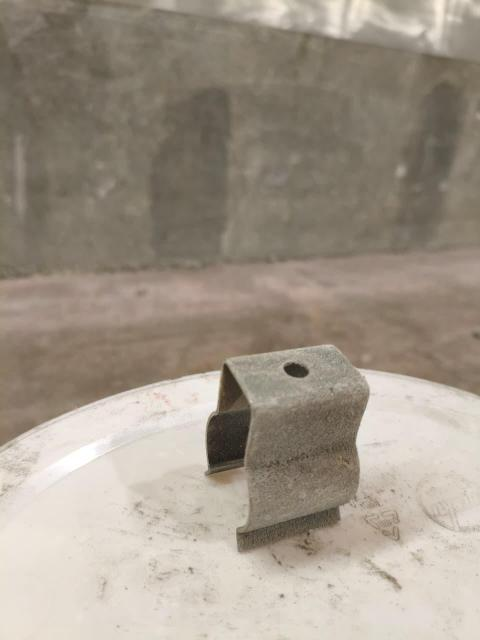Metal: (204, 343, 371, 554)
